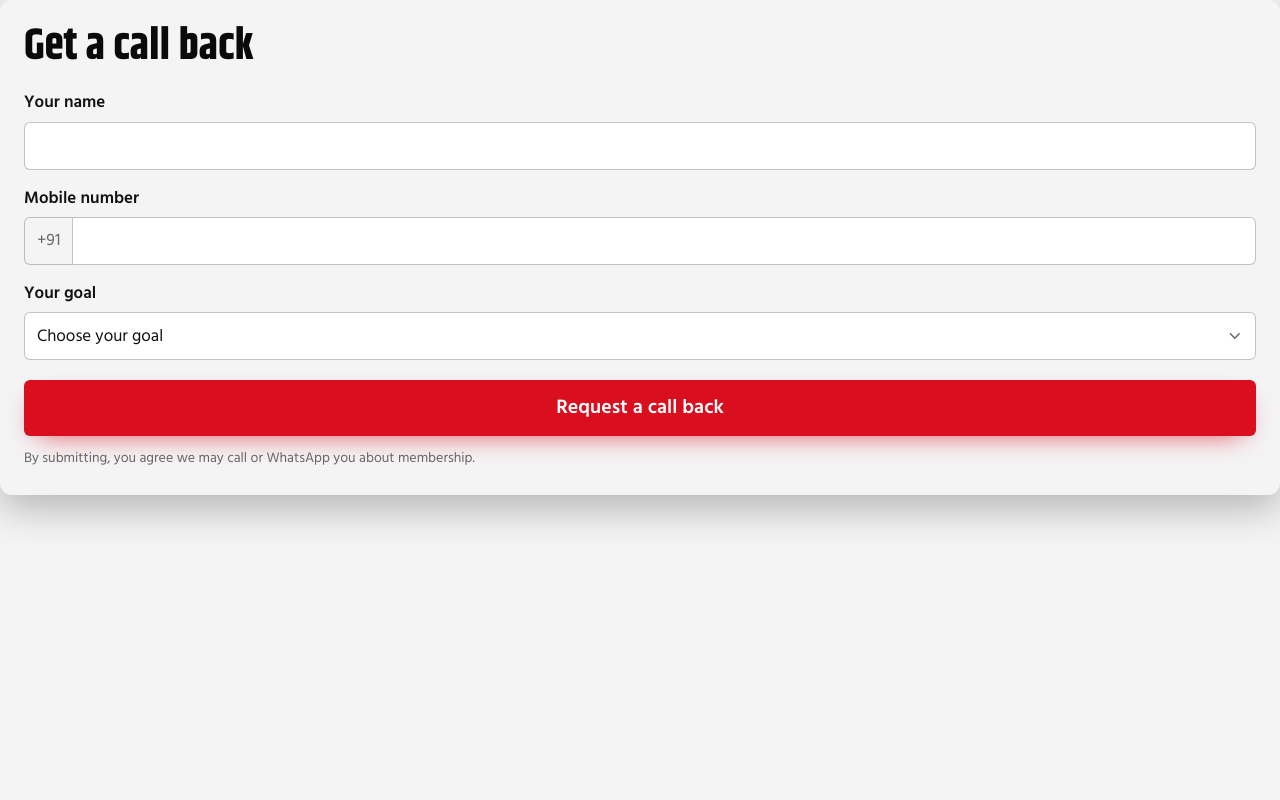
Test: LeadForm › explains a rate limit
This screenshot has width=1280, height=800.
Type "Priya Sharma" into the field labelled "Your name" at point(640, 146), box x1=24 y1=122 x2=1256 y2=170
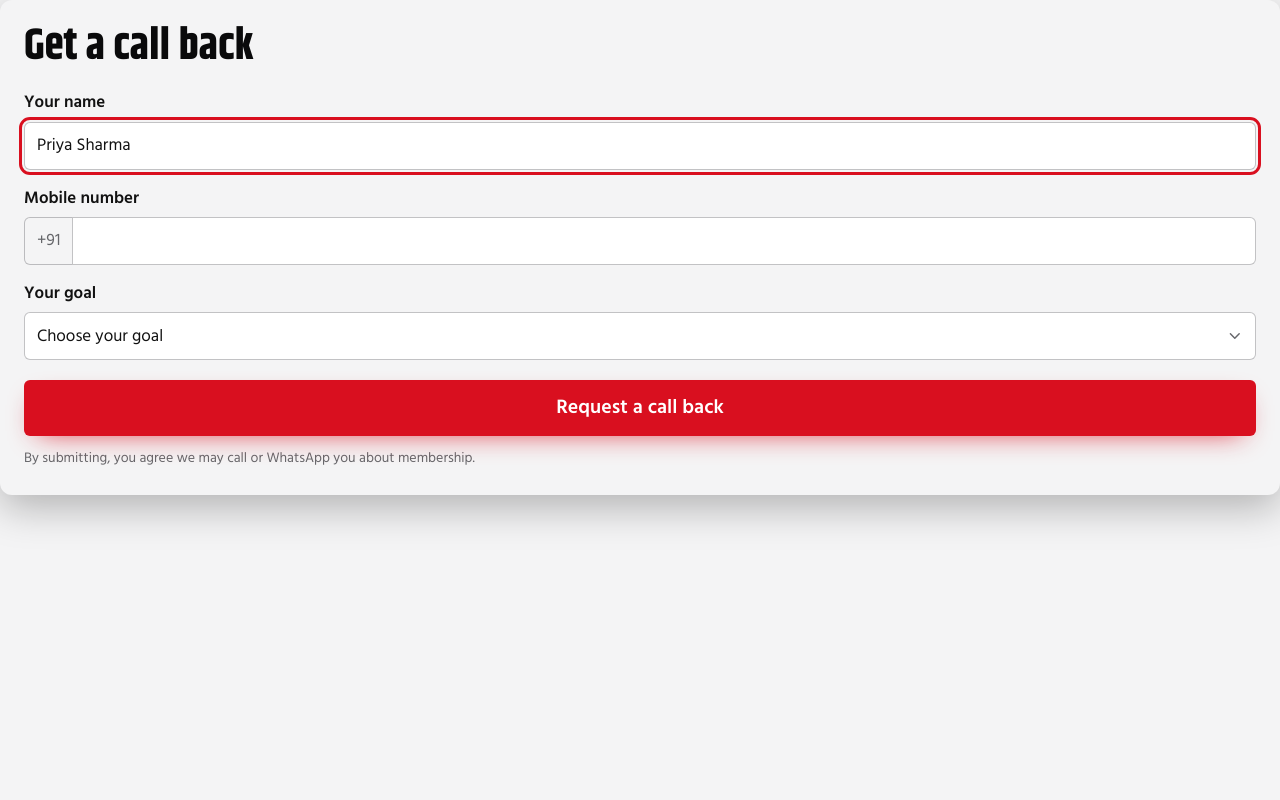
Type "9876543210" into the field labelled "Mobile number" at point(664, 241), box x1=72 y1=217 x2=1256 y2=265
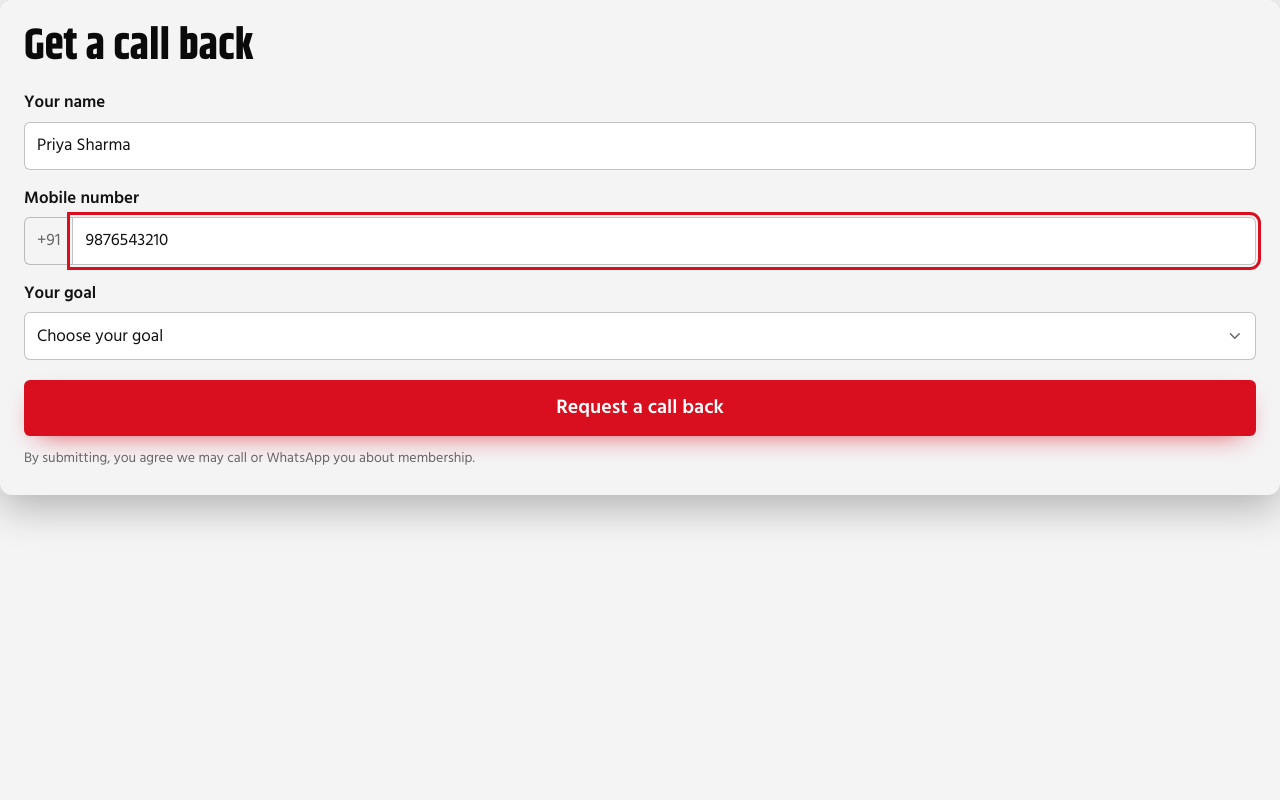
Select "Get fit and active" in the dropdown labelled "Your goal" at point(640, 336), box x1=24 y1=312 x2=1256 y2=360
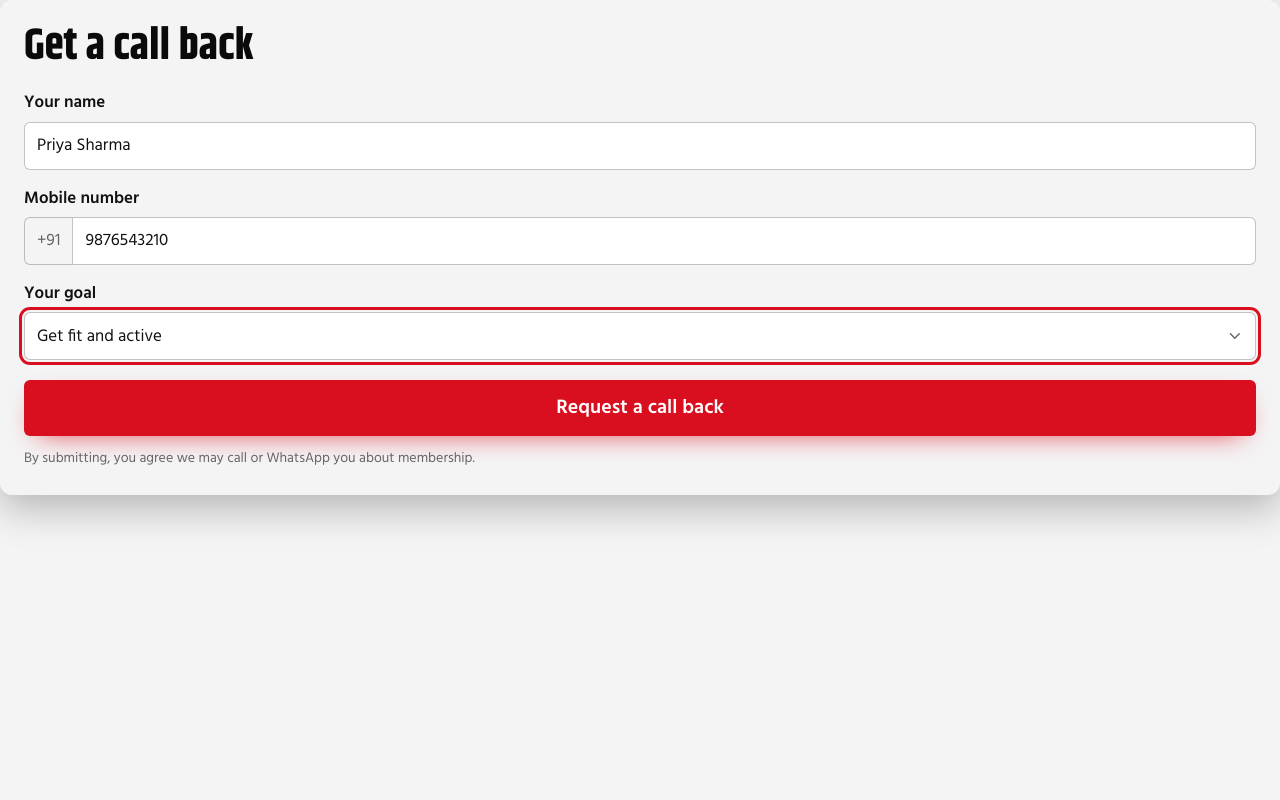
Click the button "Request a call back" at point(640, 408), box x1=24 y1=380 x2=1256 y2=436
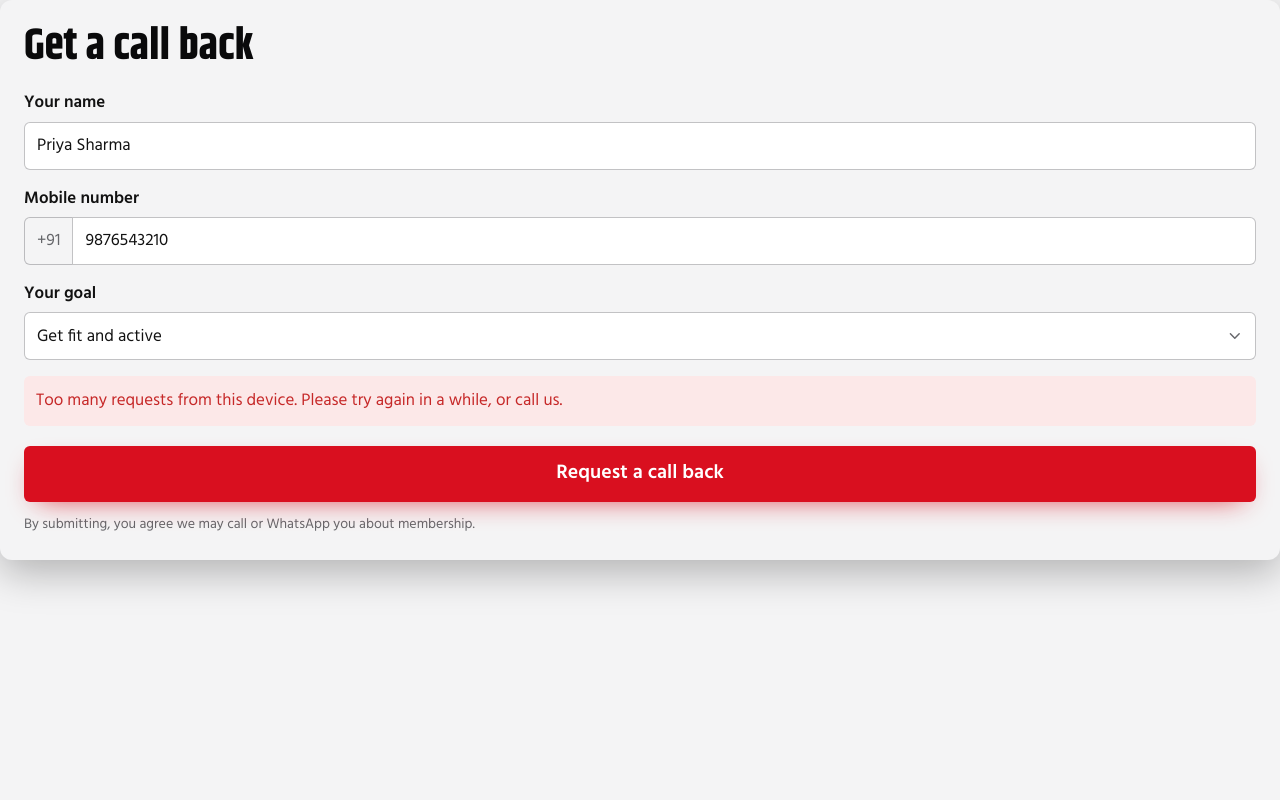
Now the text "Too many requests from this device. Please try again in a while, or call us." is shown, box x1=24 y1=376 x2=1256 y2=426
